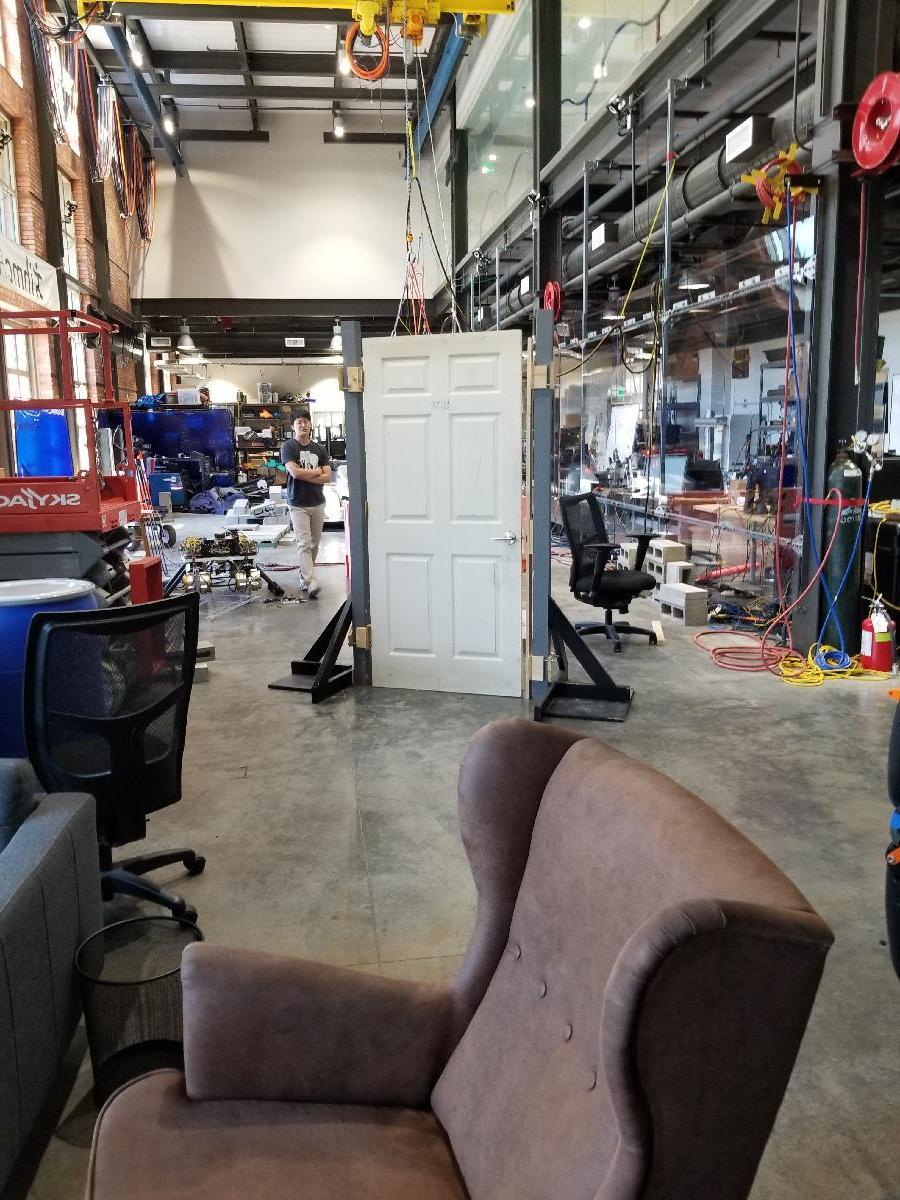door: (358, 333, 526, 701)
handle: (490, 530, 518, 547)
